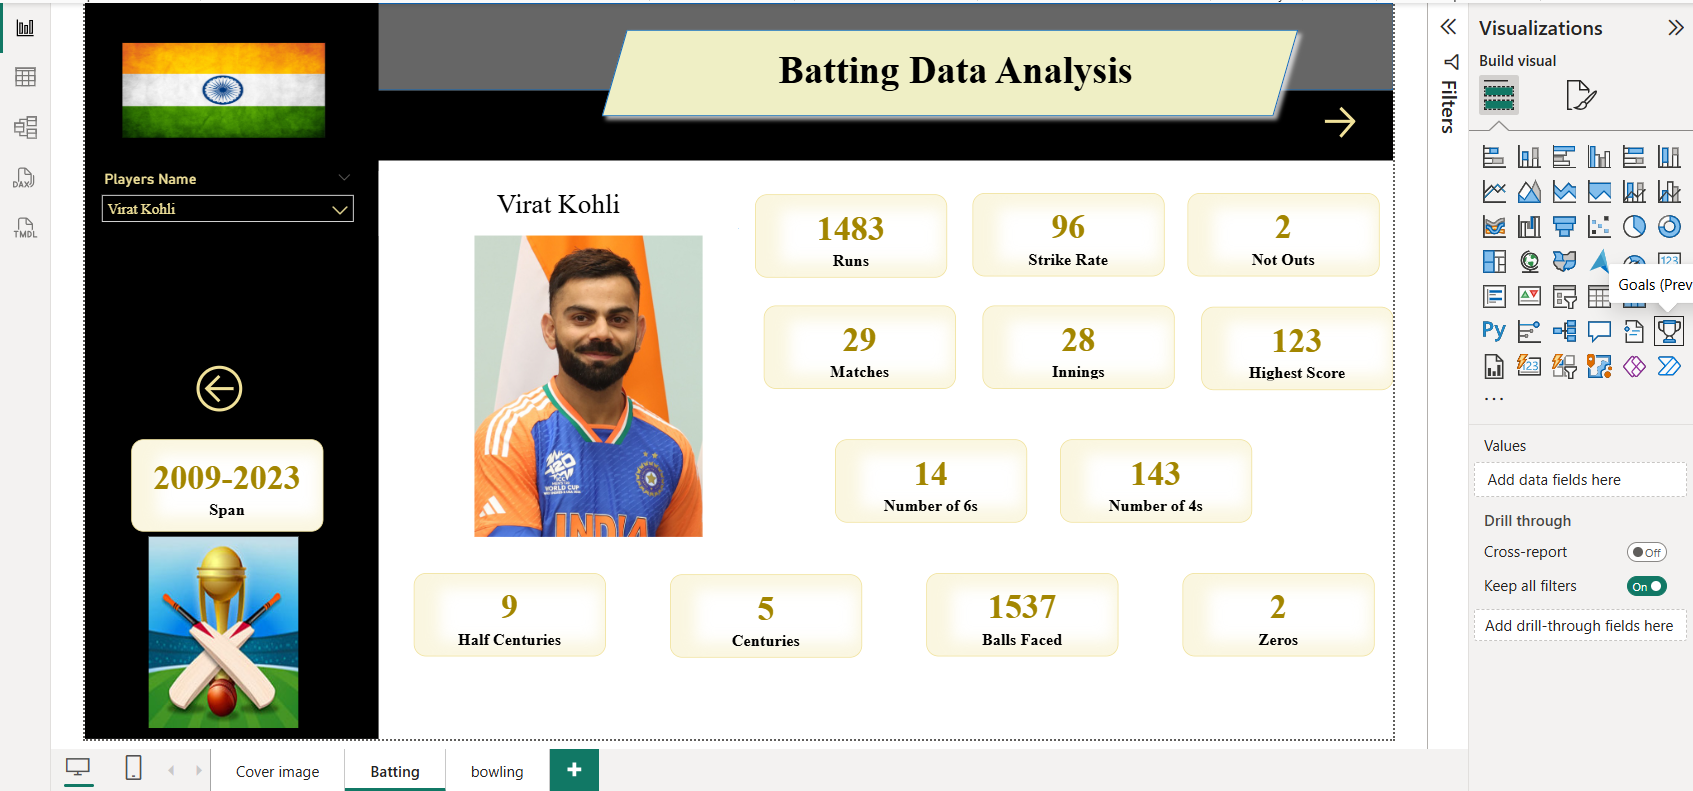

Layout of this report page (visuals, bound fields, positions):
{"tool":"powerbi","page":{"name":"Batting ","canvas":[1280,720],"ordinal":1},"visuals":[{"type":"textbox","box":[0,145.5,287.4,574.7],"z":0},{"type":"tableEx","fields":{"Values":["battingimageurl.imageurlbatting"]},"box":[331.4,187.1,324.1,344.8],"z":1000},{"type":"card","fields":{"Values":["Min(Nametable_batting.Players Name)"]},"box":[287.4,165.1,352.2,62.4],"z":2000},{"type":"card","fields":{"Values":["Min(Cricket Data batting.Span)"]},"box":[45.2,426.8,188.3,90.5],"z":3000},{"type":"shape","box":[0,0,1280.3,85.6],"z":4000},{"type":"shape","box":[0,0,287.4,94.2],"z":5000},{"type":"shape","box":[0,85.6,1280.3,68.5],"z":6000},{"type":"shape","box":[496.5,17.1,699.5,102.7],"z":7000},{"type":"textbox","box":[576,39.1,551.5,57.5],"z":8000},{"type":"image","box":[31.8,34.2,207.9,102.7],"z":9000},{"type":"textbox","box":[697,509,188,211],"z":10000},{"type":"actionButton","box":[102.7,348.5,61.1,57.5],"z":11000},{"type":"actionButton","box":[1206.9,96.6,59.9,40.4],"z":12000},{"type":"card","fields":{"Values":["Sum(Cricket Data batting.NO)"]},"box":[1078.5,185.9,188.3,81.9],"z":13000},{"type":"card","fields":{"Values":["Sum(Cricket Data batting.Inns)"]},"box":[878,295.9,188.3,81.9],"z":14000},{"type":"card","fields":{"Values":["Min(Cricket Data batting.Runs)"]},"box":[655.4,187.1,188.3,81.9],"z":15000},{"type":"card","fields":{"Values":["Sum(Cricket Data batting.Mat)"]},"box":[664,295.9,188.3,81.9],"z":16000},{"type":"card","fields":{"Values":["Sum(Cricket Data batting.SR)"]},"box":[868.2,185.9,188.3,81.9],"z":17000},{"type":"image","box":[57.5,517.3,156.5,196.9],"z":18000},{"type":"card","fields":{"Values":["Min(Cricket Data batting.HS)"]},"box":[1091.7,297.1,188.3,81.9],"z":19000},{"type":"card","fields":{"Values":["Sum(Cricket Data batting.BF)"]},"box":[823,557.6,188.3,81.9],"z":20000},{"type":"card","fields":{"Values":["Sum(Cricket Data batting.4s)"]},"box":[953.8,426.8,188.3,81.9],"z":21000},{"type":"card","fields":{"Values":["Sum(Cricket Data batting.6s)"]},"box":[733.7,426.8,188.3,81.9],"z":22000},{"type":"card","fields":{"Values":["Sum(Cricket Data batting.50)"]},"box":[321.6,557.6,188.3,81.9],"z":23000},{"type":"card","fields":{"Values":["Sum(Cricket Data batting.100)"]},"box":[572.3,558.8,188.3,81.9],"z":24000},{"type":"card","fields":{"Values":["Sum(Cricket Data batting.0)"]},"box":[1073.6,557.6,188.3,81.9],"z":25000},{"type":"slicer","fields":{"Values":["Nametable_batting.Players Name"]},"box":[6.1,159,266.6,77],"z":26000}]}

Visuals, with their boxes on the page's 1280x720 design canvas (x1, y1, x2, y2). These are canvas units, not pixel positions in the 1693x791 screenshot, which may show the page scaled, cropped or inside an application window:
textbox: (0,146,287,720)
tableEx - battingimageurl.imageurlbatting: (331,187,656,532)
card - Min(Nametable_batting.Players Name): (287,165,640,228)
card - Min(Cricket Data batting.Span): (45,427,234,517)
shape: (0,0,1280,86)
shape: (0,0,287,94)
shape: (0,86,1280,154)
shape: (496,17,1196,120)
textbox: (576,39,1128,97)
image: (32,34,240,137)
textbox: (697,509,885,720)
actionButton: (103,348,164,406)
actionButton: (1207,97,1267,137)
card - Sum(Cricket Data batting.NO): (1078,186,1267,268)
card - Sum(Cricket Data batting.Inns): (878,296,1066,378)
card - Min(Cricket Data batting.Runs): (655,187,844,269)
card - Sum(Cricket Data batting.Mat): (664,296,852,378)
card - Sum(Cricket Data batting.SR): (868,186,1056,268)
image: (58,517,214,714)
card - Min(Cricket Data batting.HS): (1092,297,1280,379)
card - Sum(Cricket Data batting.BF): (823,558,1011,640)
card - Sum(Cricket Data batting.4s): (954,427,1142,509)
card - Sum(Cricket Data batting.6s): (734,427,922,509)
card - Sum(Cricket Data batting.50): (322,558,510,640)
card - Sum(Cricket Data batting.100): (572,559,761,641)
card - Sum(Cricket Data batting.0): (1074,558,1262,640)
slicer - Nametable_batting.Players Name: (6,159,273,236)
